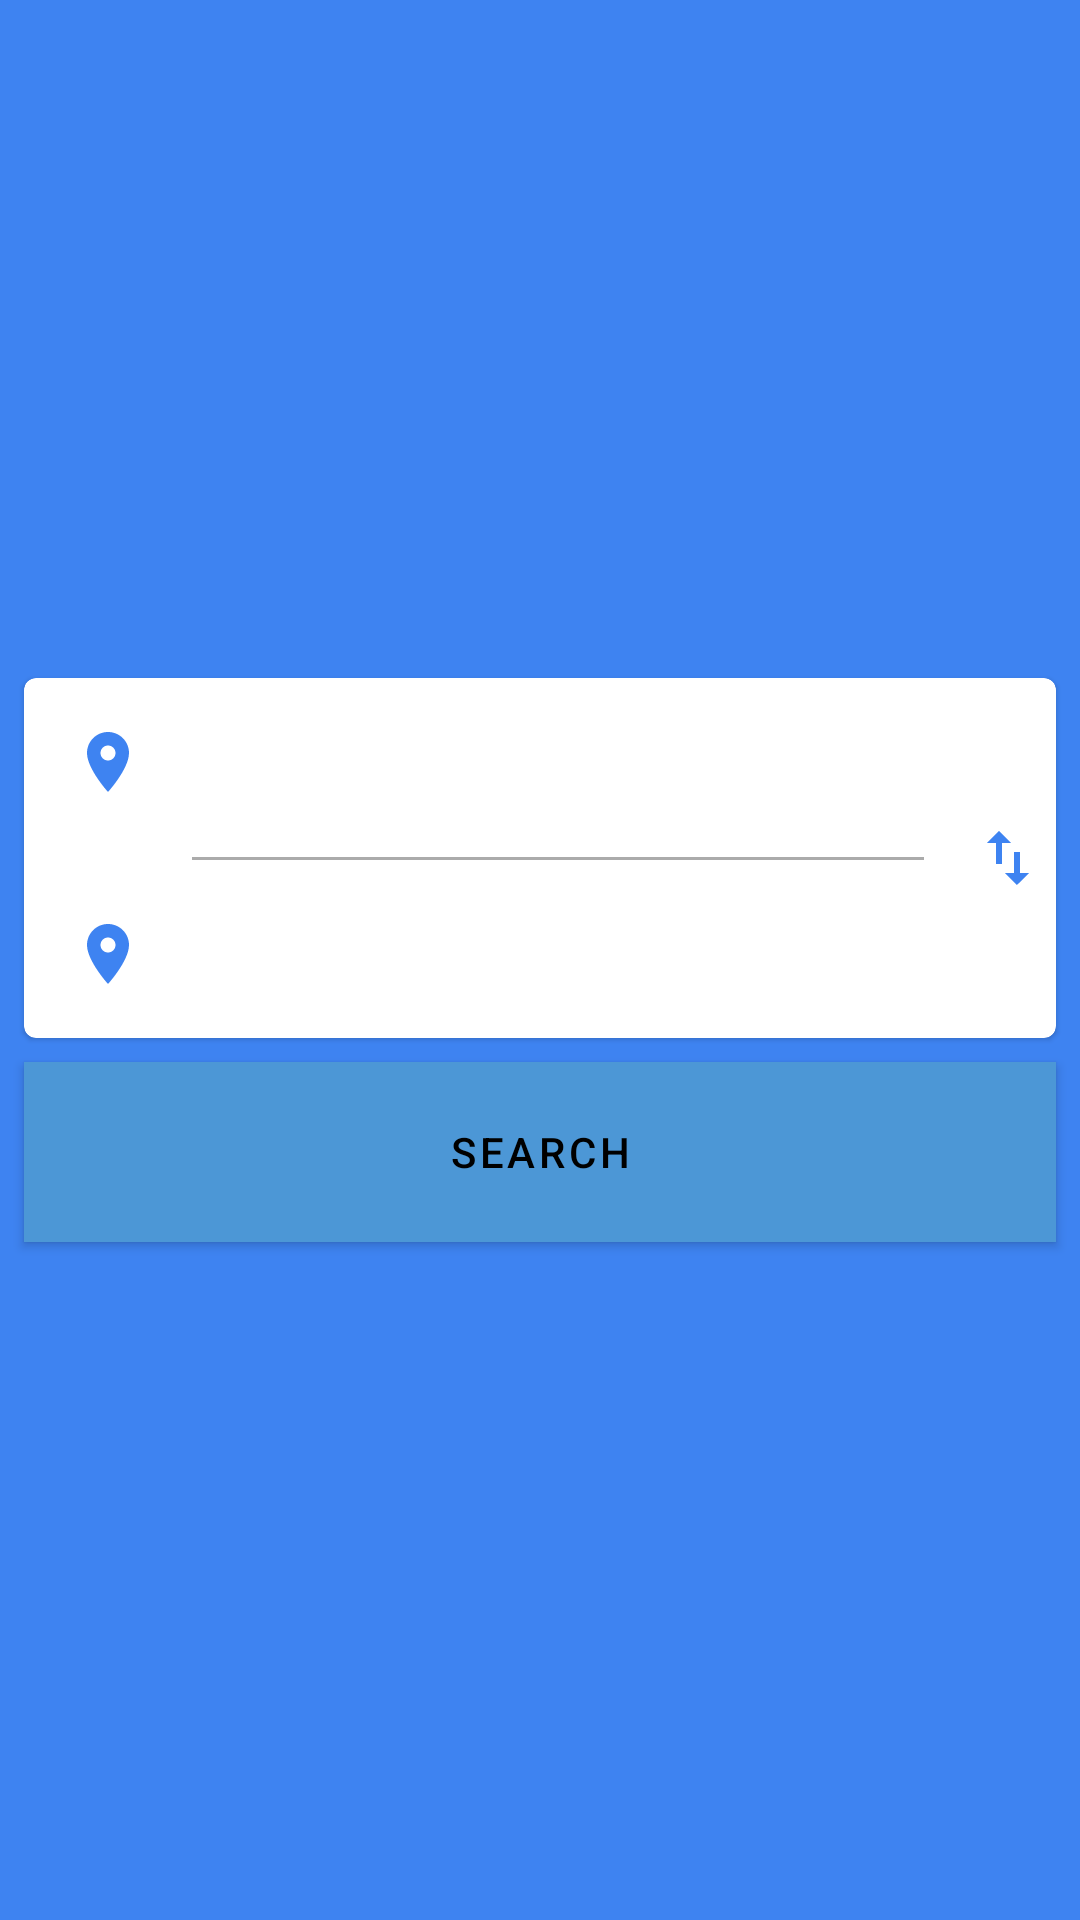

Point at icon controls on the screen. Image size 1080px x 1920px, points as [x,y].
Swap button: [1008,858]
